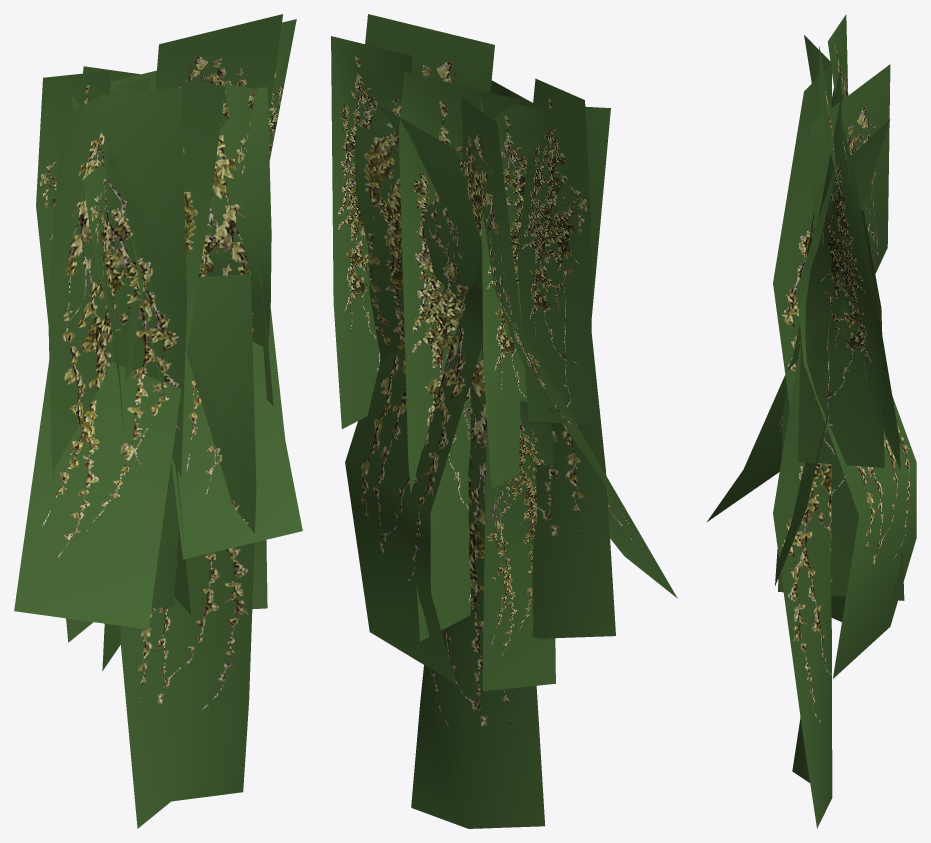
The model's file is ivy05_lod1.fbx.
3 views of the same model, side by side, from view 1: azimuth 30°, elevation 25°; view 2: azimuth 150°, elevation 25°; view 3: azimuth 270°, elevation 25° (orthographic). The views are drawn at different scales.
Parts seen in each view (by area): view 1: Mesh Object; view 2: Mesh Object; view 3: Mesh Object.
Boxes of the visible parts, bbox=[...] form: Mesh Object: bbox=[14, 14, 302, 828]; Mesh Object: bbox=[331, 14, 677, 828]; Mesh Object: bbox=[706, 14, 916, 828].
Size of the model in its own units: 0.7286 by 1.72 by 0.4395.
